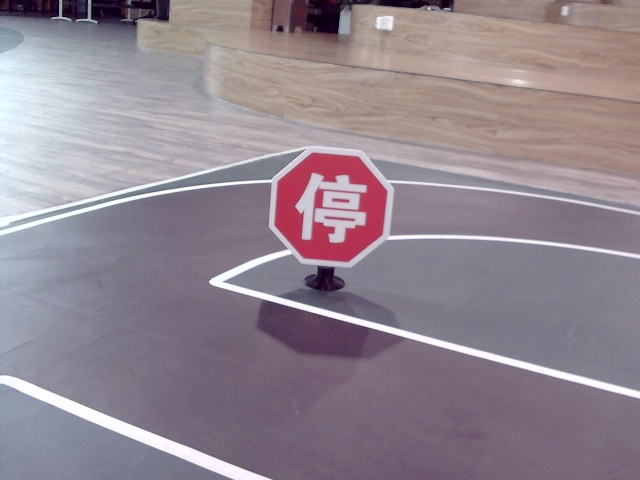stop: (290, 172, 370, 240)
